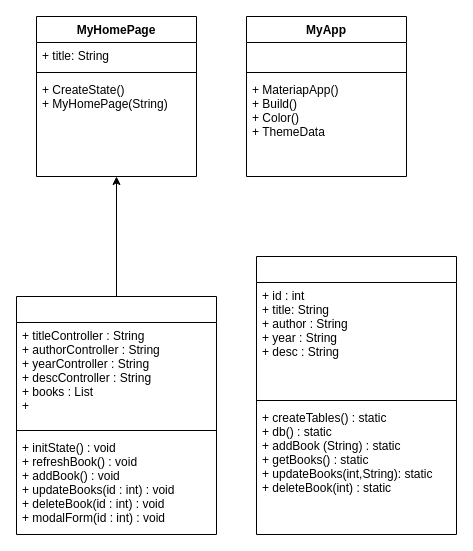
This 473x551 diagram has some shape labels left out. The shapes that lost their labels are listed below. From the top down, each one's box as (x1, y1, x2, y2) in pixels, then its label:
(16, 296, 216, 534): _MyHomePageState
(256, 256, 456, 534): SQLHelper
